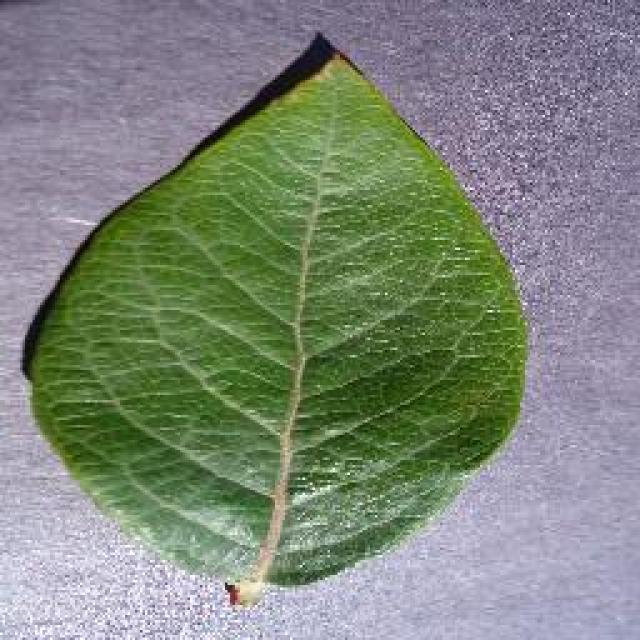Blu_healthy: (69, 138, 505, 536)
